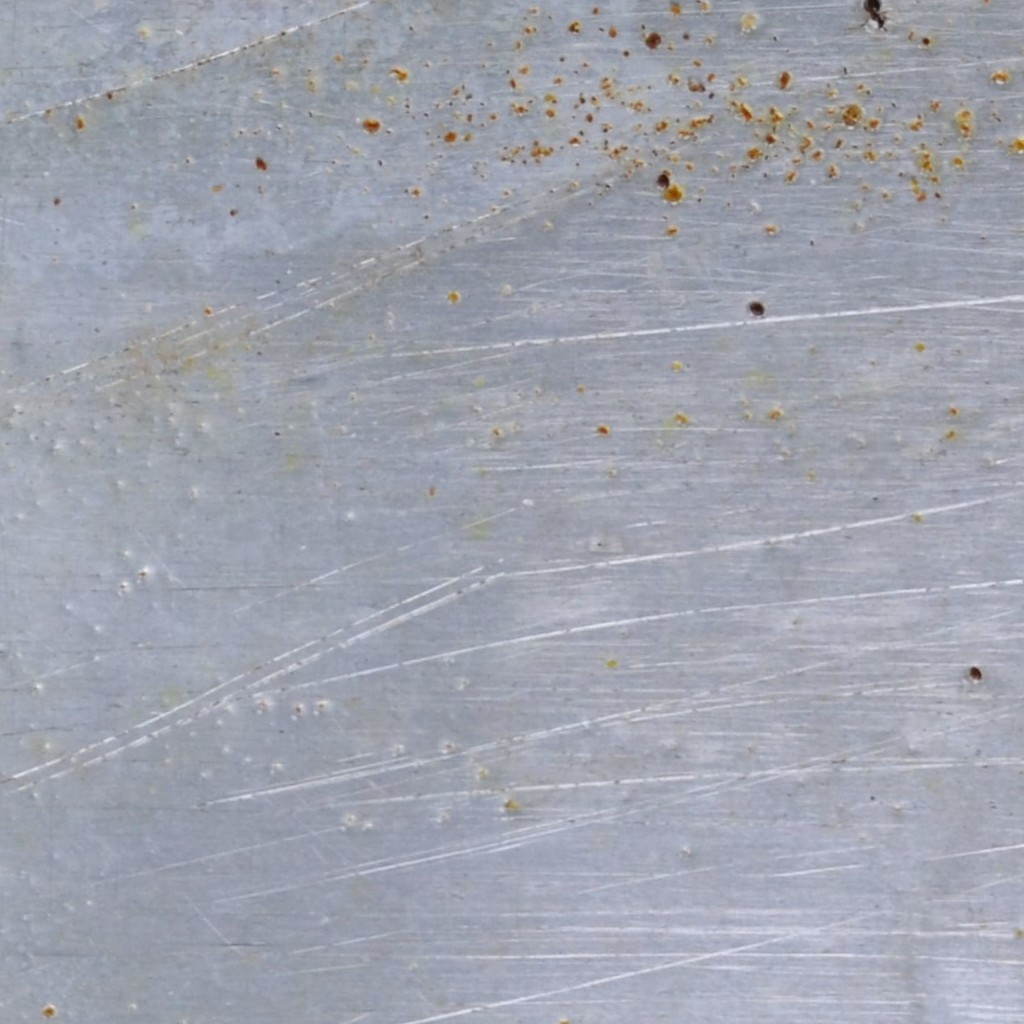varroa: (653, 170, 670, 193), (745, 300, 766, 318), (967, 663, 985, 683)
